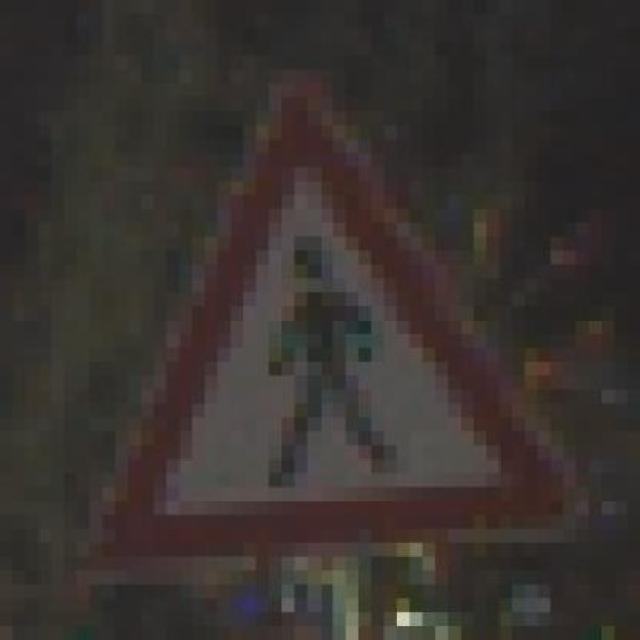Pedestrian Crossing: (90, 69, 588, 571)
